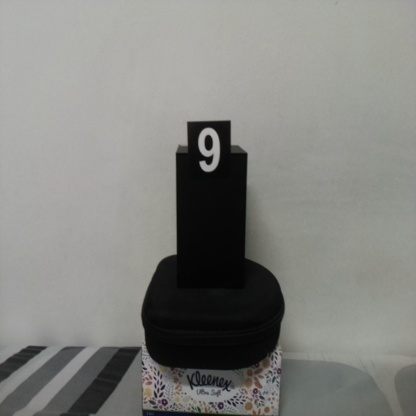id_9: (188, 123, 231, 184)
